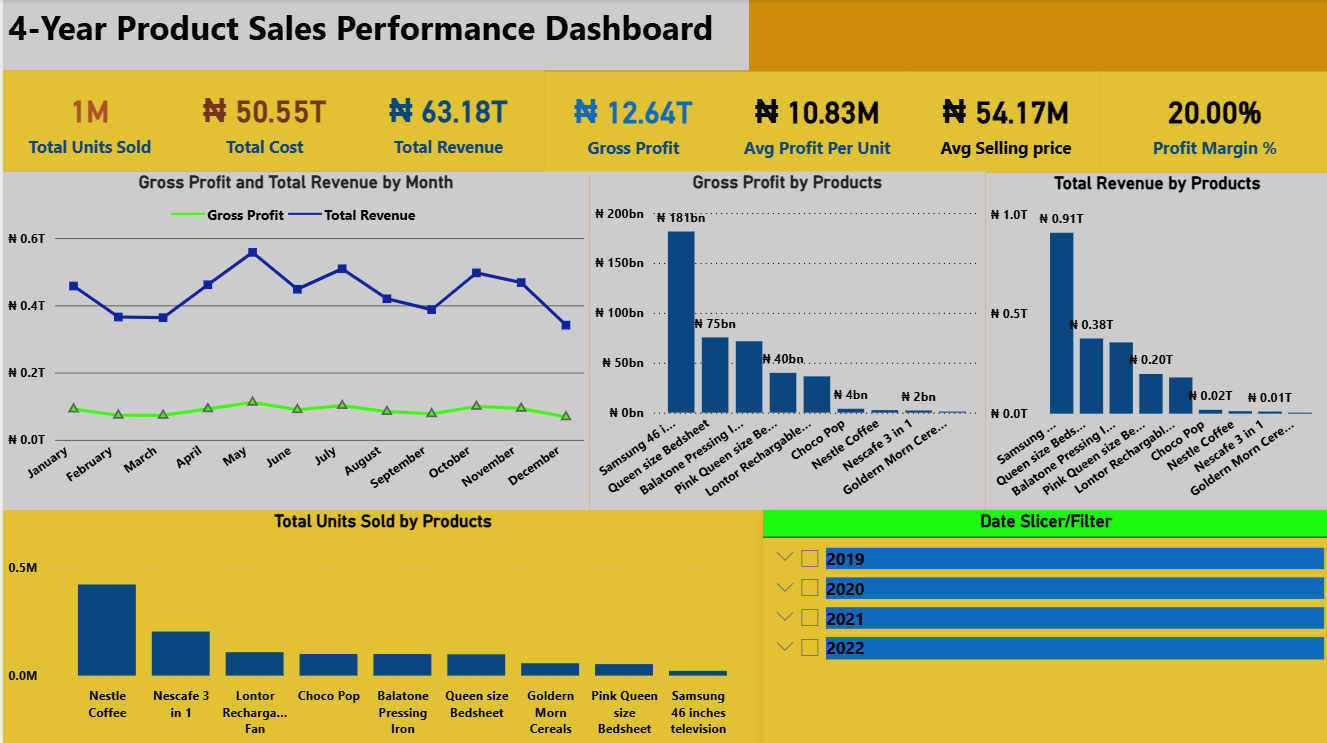

The dashboard page shown, as its layout file describes it:
{"tool":"powerbi","page":{"name":"Page 1","canvas":[1280,720],"ordinal":0},"visuals":[{"type":"textbox","box":[0,0,720.2,68.8],"z":0},{"type":"card","fields":{"Values":["Product_sales.Total Units Sold"]},"box":[0,68.8,167.7,97.7],"z":1000},{"type":"card","fields":{"Values":["Product_sales.Total Cost"]},"box":[167.7,68.8,170.1,97.7],"z":2000},{"type":"card","fields":{"Values":["Product_sales.Total Revenue"]},"box":[337.8,68.8,184.6,97.7],"z":3000},{"type":"card","fields":{"Values":["Product_sales.Gross Profit"]},"box":[522.4,70,172.5,97.7],"z":4000},{"type":"card","fields":{"Values":["Product_sales.Profit Margin %"]},"box":[1059.3,70,220.8,97.7],"z":5000},{"type":"card","fields":{"Values":["Product_sales.Avg Selling price"]},"box":[877.1,70,182.2,97.7],"z":6000},{"type":"card","fields":{"Values":["Product_sales.Avg Profit Per Unit"]},"box":[694.9,70,182.2,97.7],"z":7000},{"type":"columnChart","fields":{"Category":["Product_sales.Products"],"Y":["Product_sales.Gross Profit"]},"box":[565.8,166.5,382.4,326.9],"z":8000},{"type":"lineChart","fields":{"Y":["Product_sales.Gross Profit","Product_sales.Total Revenue"],"Category":["Product_sales.Order_Date.Variation.Date Hierarchy.Month"]},"box":[0,166.5,565.8,326.9],"z":9000},{"type":"clusteredColumnChart","fields":{"Category":["Product_sales.Products"],"Y":["Product_sales.Total Units Sold"]},"box":[0,493.4,733.5,226.8],"z":10000},{"type":"columnChart","fields":{"Category":["Product_sales.Products"],"Y":["Product_sales.Total Revenue"]},"box":[948.3,167.7,331.8,325.7],"z":11000},{"type":"slicer","title":"Date Slicer/Filter","fields":{"Values":["Product_sales.Order_Date.Variation.Date Hierarchy.Year","Product_sales.Order_Date.Variation.Date Hierarchy.Month","Product_sales.Products","Product_sales.Day Name"]},"box":[733.5,493.4,546.5,226.8],"z":12000}]}

Visuals, with their boxes in screenshot pixels (x1, y1, x2, y2), scaled from the page's 1280x720 canvas onto the 1327x743 screenshot:
textbox: locate(0, 0, 747, 71)
card - Product_sales.Total Units Sold: locate(0, 71, 174, 172)
card - Product_sales.Total Cost: locate(174, 71, 350, 172)
card - Product_sales.Total Revenue: locate(350, 71, 542, 172)
card - Product_sales.Gross Profit: locate(542, 72, 720, 173)
card - Product_sales.Profit Margin %: locate(1098, 72, 1326, 173)
card - Product_sales.Avg Selling price: locate(909, 72, 1098, 173)
card - Product_sales.Avg Profit Per Unit: locate(720, 72, 909, 173)
columnChart - Product_sales.Products x Product_sales.Gross Profit: locate(587, 172, 983, 509)
lineChart - Product_sales.Gross Profit x Product_sales.Total Revenue: locate(0, 172, 587, 509)
clusteredColumnChart - Product_sales.Products x Product_sales.Total Units Sold: locate(0, 509, 760, 742)
columnChart - Product_sales.Products x Product_sales.Total Revenue: locate(983, 173, 1326, 509)
"Date Slicer/Filter" slicer: locate(760, 509, 1326, 742)
